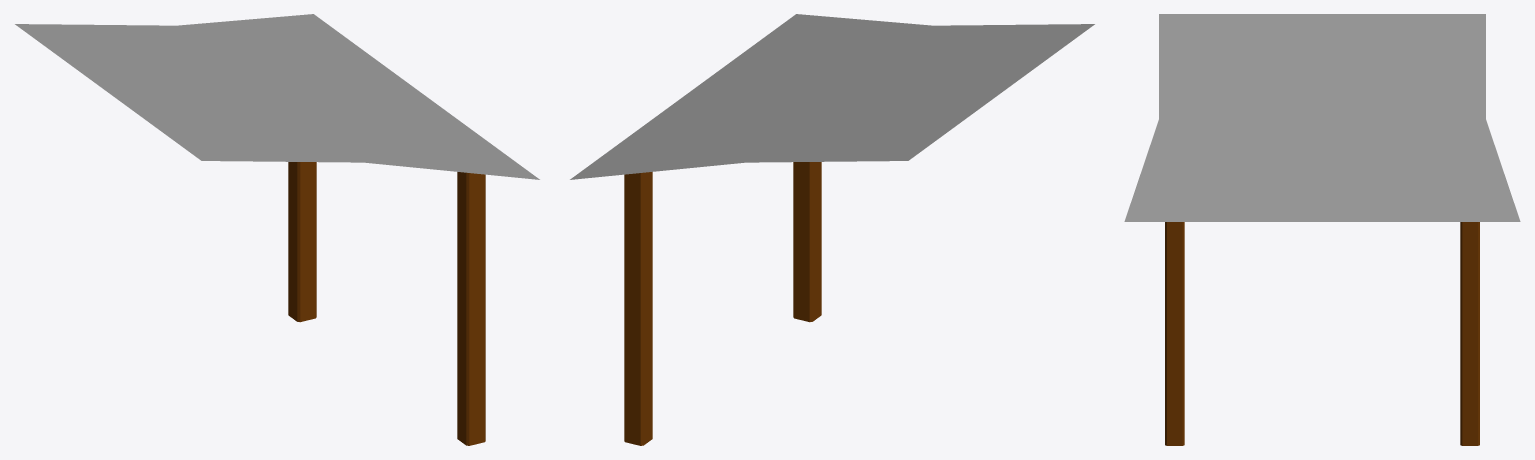
The model's file is SM_Farm_tent.fbx.
The picture shows the model from 3 angles, left to right: view 1: azimuth 30°, elevation 25°; view 2: azimuth 150°, elevation 25°; view 3: azimuth 270°, elevation 25°; orthographic projection. The views are drawn at different scales.
Visible parts, largest first — view 1: SM_Farm_tent; view 2: SM_Farm_tent; view 3: SM_Farm_tent.
Boxes of the visible parts, x1,y1,x2,y2 form: SM_Farm_tent: (15,14,539,445); SM_Farm_tent: (570,14,1094,445); SM_Farm_tent: (1124,14,1520,445).
Bounding box in the file's own units: 492 × 521 × 606.
